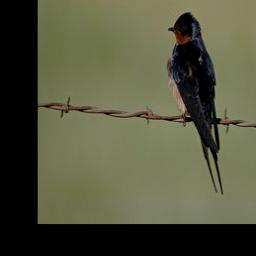Swallow: (167, 9, 226, 195)
